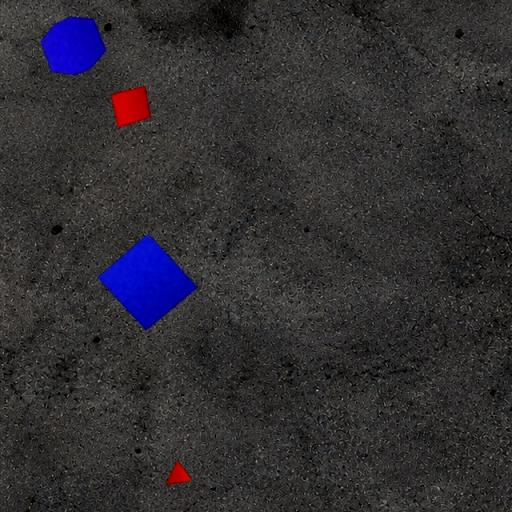BLUE_SQUARE: (97, 233, 199, 331)
RED_SQUARE: (110, 85, 152, 129)
